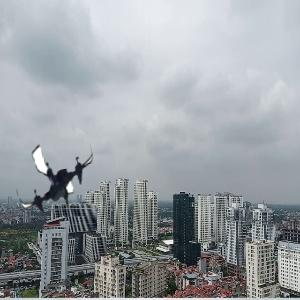drone: (15, 138, 99, 222)
